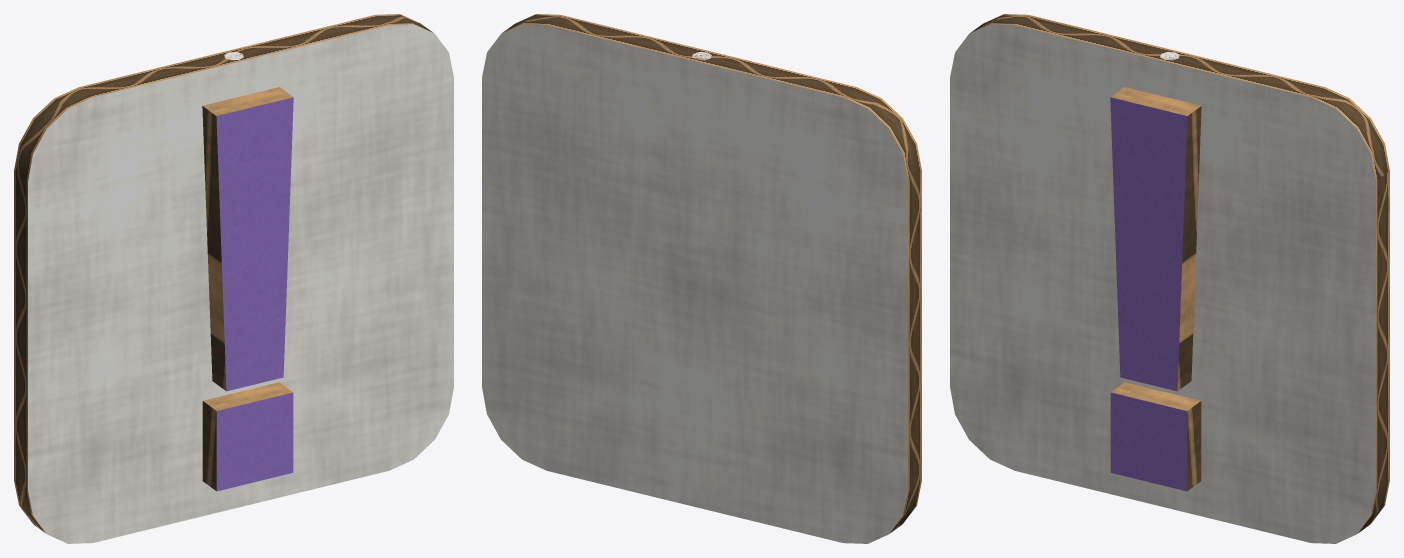
File: goal_letter_3.gltf
3 renders of one model, left to right at view 1: azimuth 30°, elevation 25°; view 2: azimuth 150°, elevation 25°; view 3: azimuth 330°, elevation 25°, orthographic.
Parts seen in each view (by area): view 1: goal_letter_3; view 2: goal_letter_3; view 3: goal_letter_3.
Part boxes in pixels (x1,y1,x2,y2): goal_letter_3: (14,14,453,543); goal_letter_3: (482,14,921,543); goal_letter_3: (950,14,1389,543).
Bounding box in the file's own units: 1.05 × 1.05 × 0.12.
Materials: 3 (3 with a texture image).
